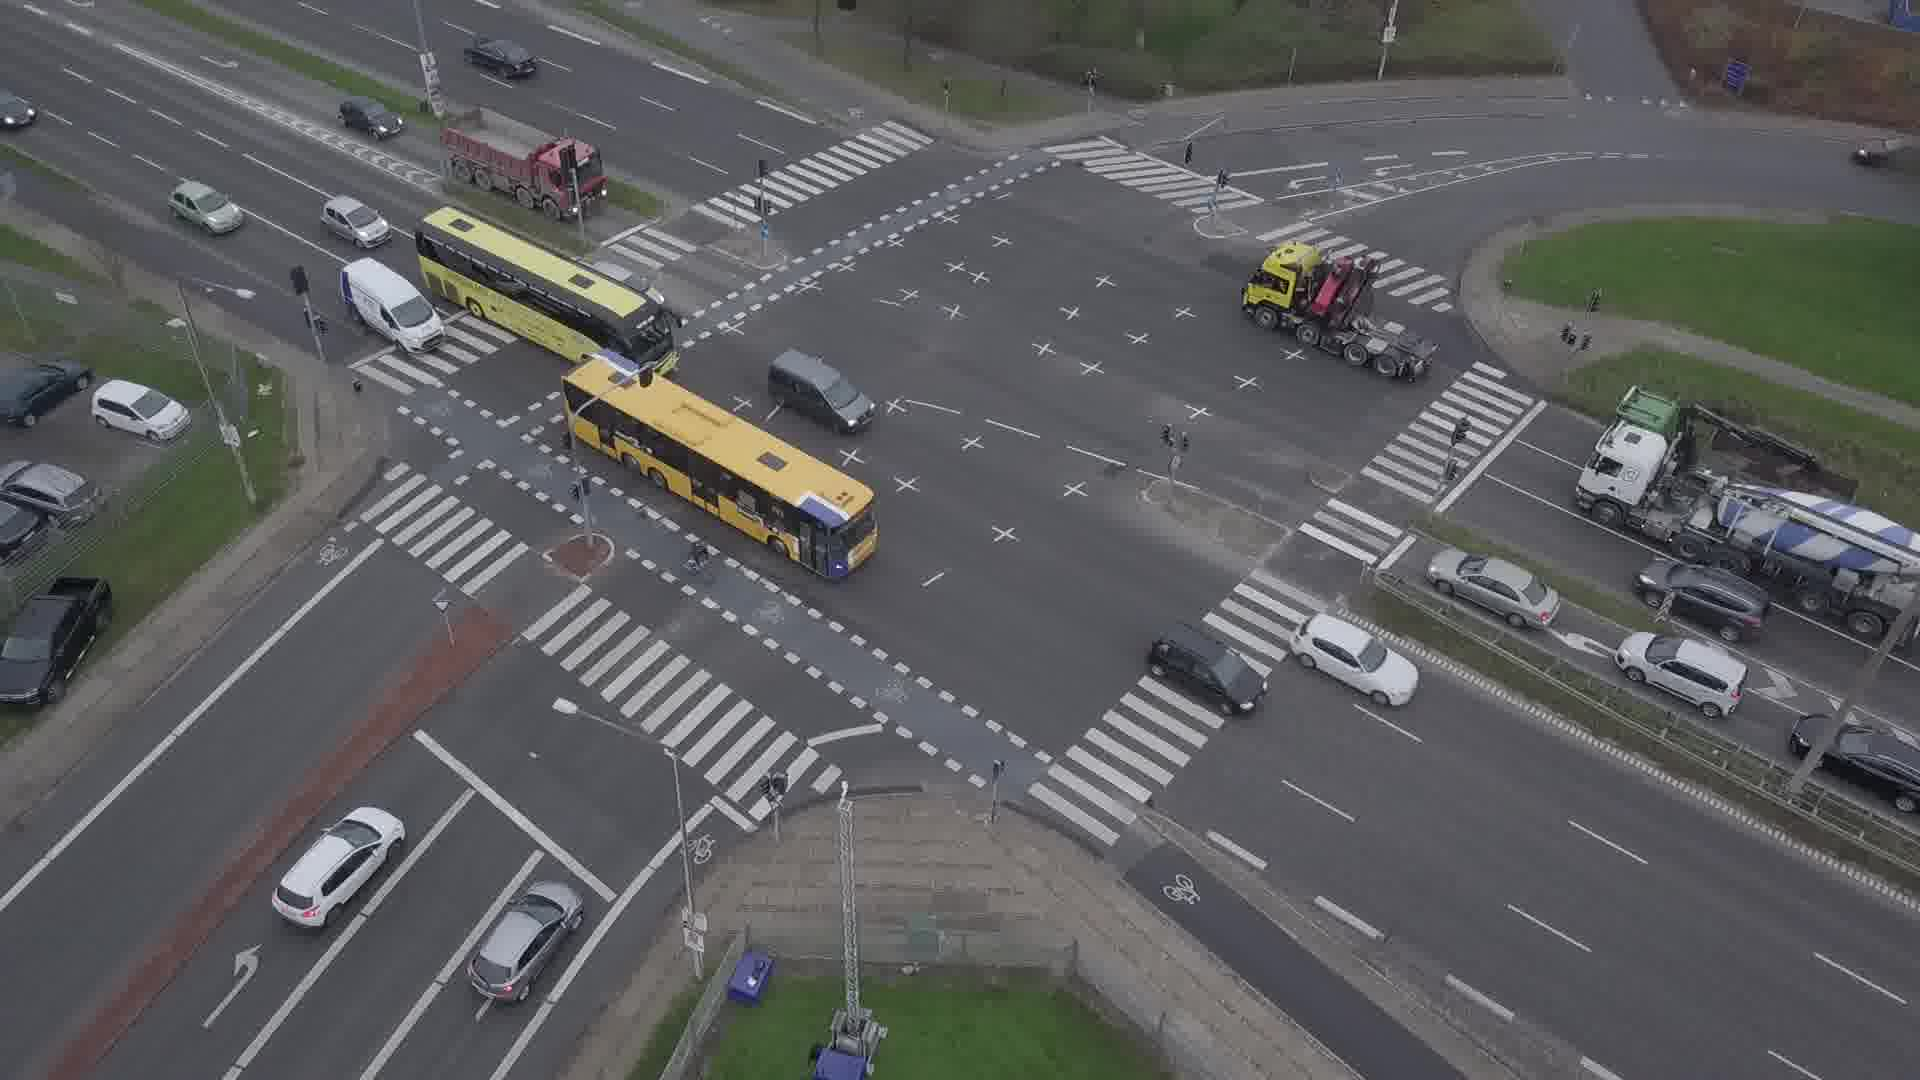bicycle: (682, 540, 713, 579)
bus: (562, 348, 877, 578), (417, 202, 682, 373)
car: (270, 807, 406, 927), (467, 879, 585, 1002), (1789, 714, 1920, 813), (1614, 630, 1748, 719), (1291, 613, 1419, 706), (1635, 556, 1772, 642), (1425, 549, 1561, 630), (1147, 627, 1269, 714), (768, 348, 876, 433), (168, 180, 242, 234), (321, 196, 391, 248), (337, 95, 403, 142), (463, 38, 537, 78), (594, 261, 665, 301), (1857, 136, 1920, 169)
lorry: (1574, 420, 1920, 642), (1239, 238, 1444, 378), (1615, 388, 1859, 501), (440, 105, 609, 222), (340, 257, 446, 353)
